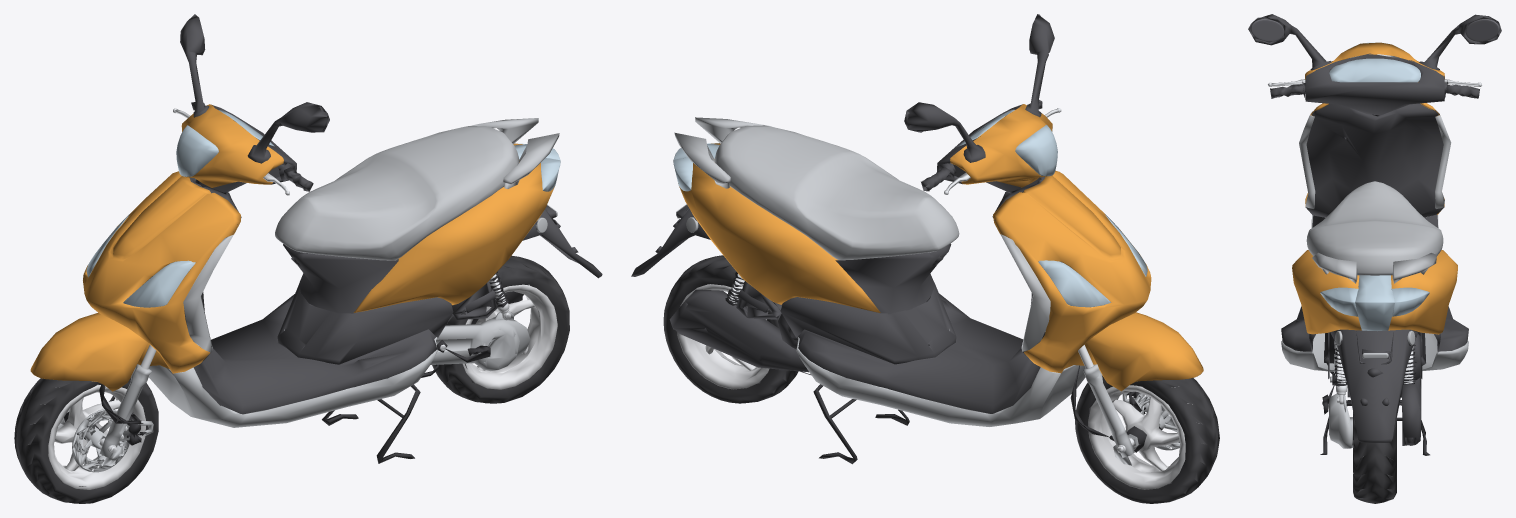
File: archmodels55-03.glb
3 renders of one model, left to right at view 1: azimuth 30°, elevation 25°; view 2: azimuth 150°, elevation 25°; view 3: azimuth 270°, elevation 25°, orthographic. The views are drawn at different scales.
Parts seen in each view (by area): view 1: Archmodels55_03_carpaint, Archmodels55_03_black_plastic, Archmodels55_03_seat, Archmodels55_03_silver, Archmodels55_03_tires, Archmodels55_03_rims, Archmodels55_03_glass, Archmodels55_03_black, Archmodels55_03_brake_disc, Archmodels55_03_chrome2; view 2: Archmodels55_03_carpaint, Archmodels55_03_black_plastic, Archmodels55_03_seat, Archmodels55_03_silver, Archmodels55_03_tires, Archmodels55_03_rims, Archmodels55_03_glass, Archmodels55_03_black; view 3: Archmodels55_03_black_plastic, Archmodels55_03_seat, Archmodels55_03_carpaint, Archmodels55_03_silver, Archmodels55_03_glass, Archmodels55_03_tires, Archmodels55_03_black, Archmodels55_03_mirrors, Archmodels55_03_chrome2, Archmodels55_03_chrome.
Boxes of the visible parts, x1,y1,x2,y2 form: Archmodels55_03_carpaint: (30,104,554,391); Archmodels55_03_black_plastic: (147,14,602,414); Archmodels55_03_seat: (275,126,519,260); Archmodels55_03_silver: (57,118,559,465); Archmodels55_03_tires: (14,255,569,503); Archmodels55_03_rims: (34,284,557,489); Archmodels55_03_glass: (86,110,560,307); Archmodels55_03_black: (64,179,508,463); Archmodels55_03_brake_disc: (72,409,129,472); Archmodels55_03_chrome2: (67,274,510,453); Archmodels55_03_carpaint: (678,104,1203,391); Archmodels55_03_black_plastic: (631,14,1077,413); Archmodels55_03_seat: (714,125,959,260); Archmodels55_03_silver: (674,117,1177,465); Archmodels55_03_tires: (663,255,1219,503); Archmodels55_03_rims: (677,284,1203,489); Archmodels55_03_glass: (673,109,1147,307); Archmodels55_03_black: (725,177,1162,464); Archmodels55_03_black_plastic: (1248,14,1501,445); Archmodels55_03_seat: (1306,181,1443,275); Archmodels55_03_carpaint: (1292,42,1457,334); Archmodels55_03_silver: (1281,115,1468,448); Archmodels55_03_glass: (1320,42,1429,330); Archmodels55_03_tires: (1353,412,1396,503); Archmodels55_03_black: (1320,114,1429,455); Archmodels55_03_mirrors: (1250,19,1499,41); Archmodels55_03_chrome2: (1330,329,1413,404); Archmodels55_03_chrome: (1268,54,1481,86).
Bounding box in the file's own units: 1.98 × 1.35 × 0.8126.
